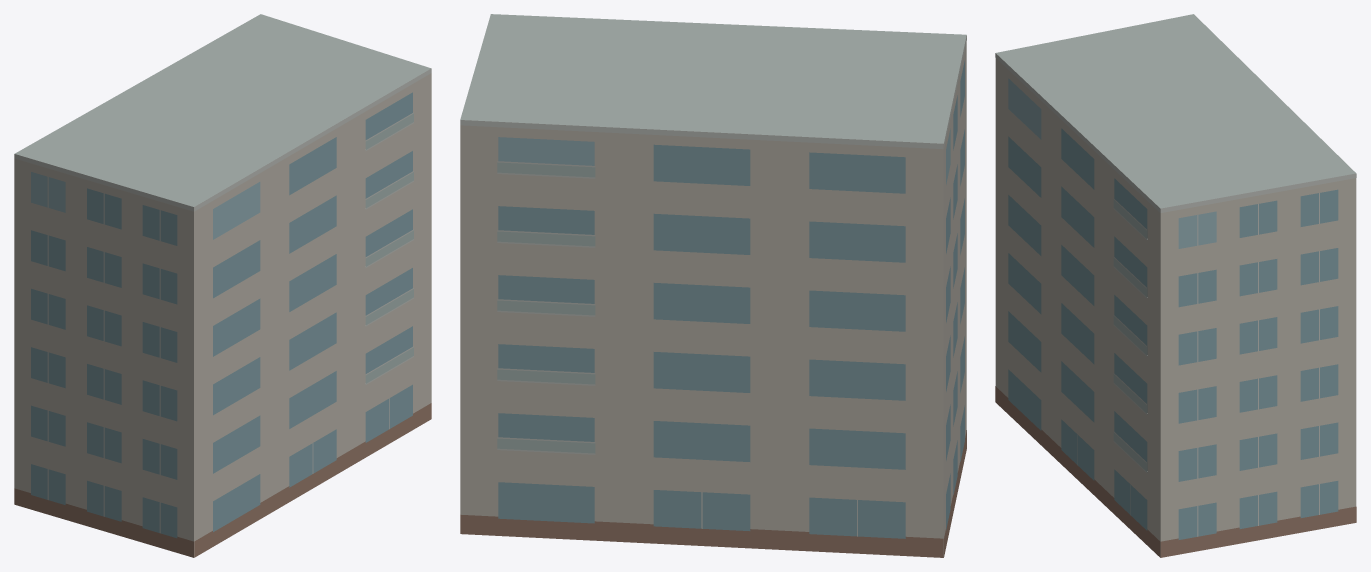
The model's file is survey-upis-32581231.glb.
3 views of the same model, side by side, from view 1: azimuth 30°, elevation 25°; view 2: azimuth 150°, elevation 25°; view 3: azimuth 270°, elevation 25° (orthographic). The views are drawn at different scales.
Visible parts, largest first — view 1: survey-upis-32581231.tmp; view 2: survey-upis-32581231.tmp; view 3: survey-upis-32581231.tmp.
Part boxes in pixels (x1,y1,x2,y2): survey-upis-32581231.tmp: [14, 14, 431, 557]; survey-upis-32581231.tmp: [460, 14, 966, 557]; survey-upis-32581231.tmp: [995, 14, 1356, 557].
Size of the model in its own units: 22.29 by 18.65 by 17.48.
